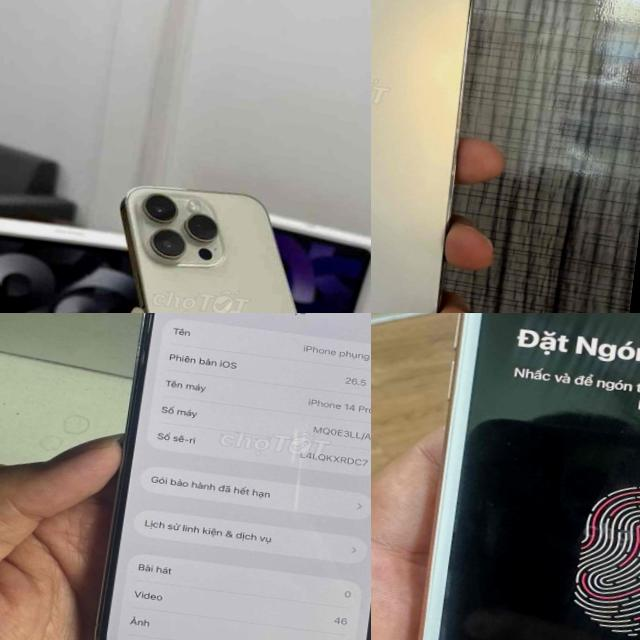gen_14: (82, 313, 371, 640), (371, 0, 512, 313), (85, 162, 371, 313)
gen_7_8: (391, 313, 640, 640)
